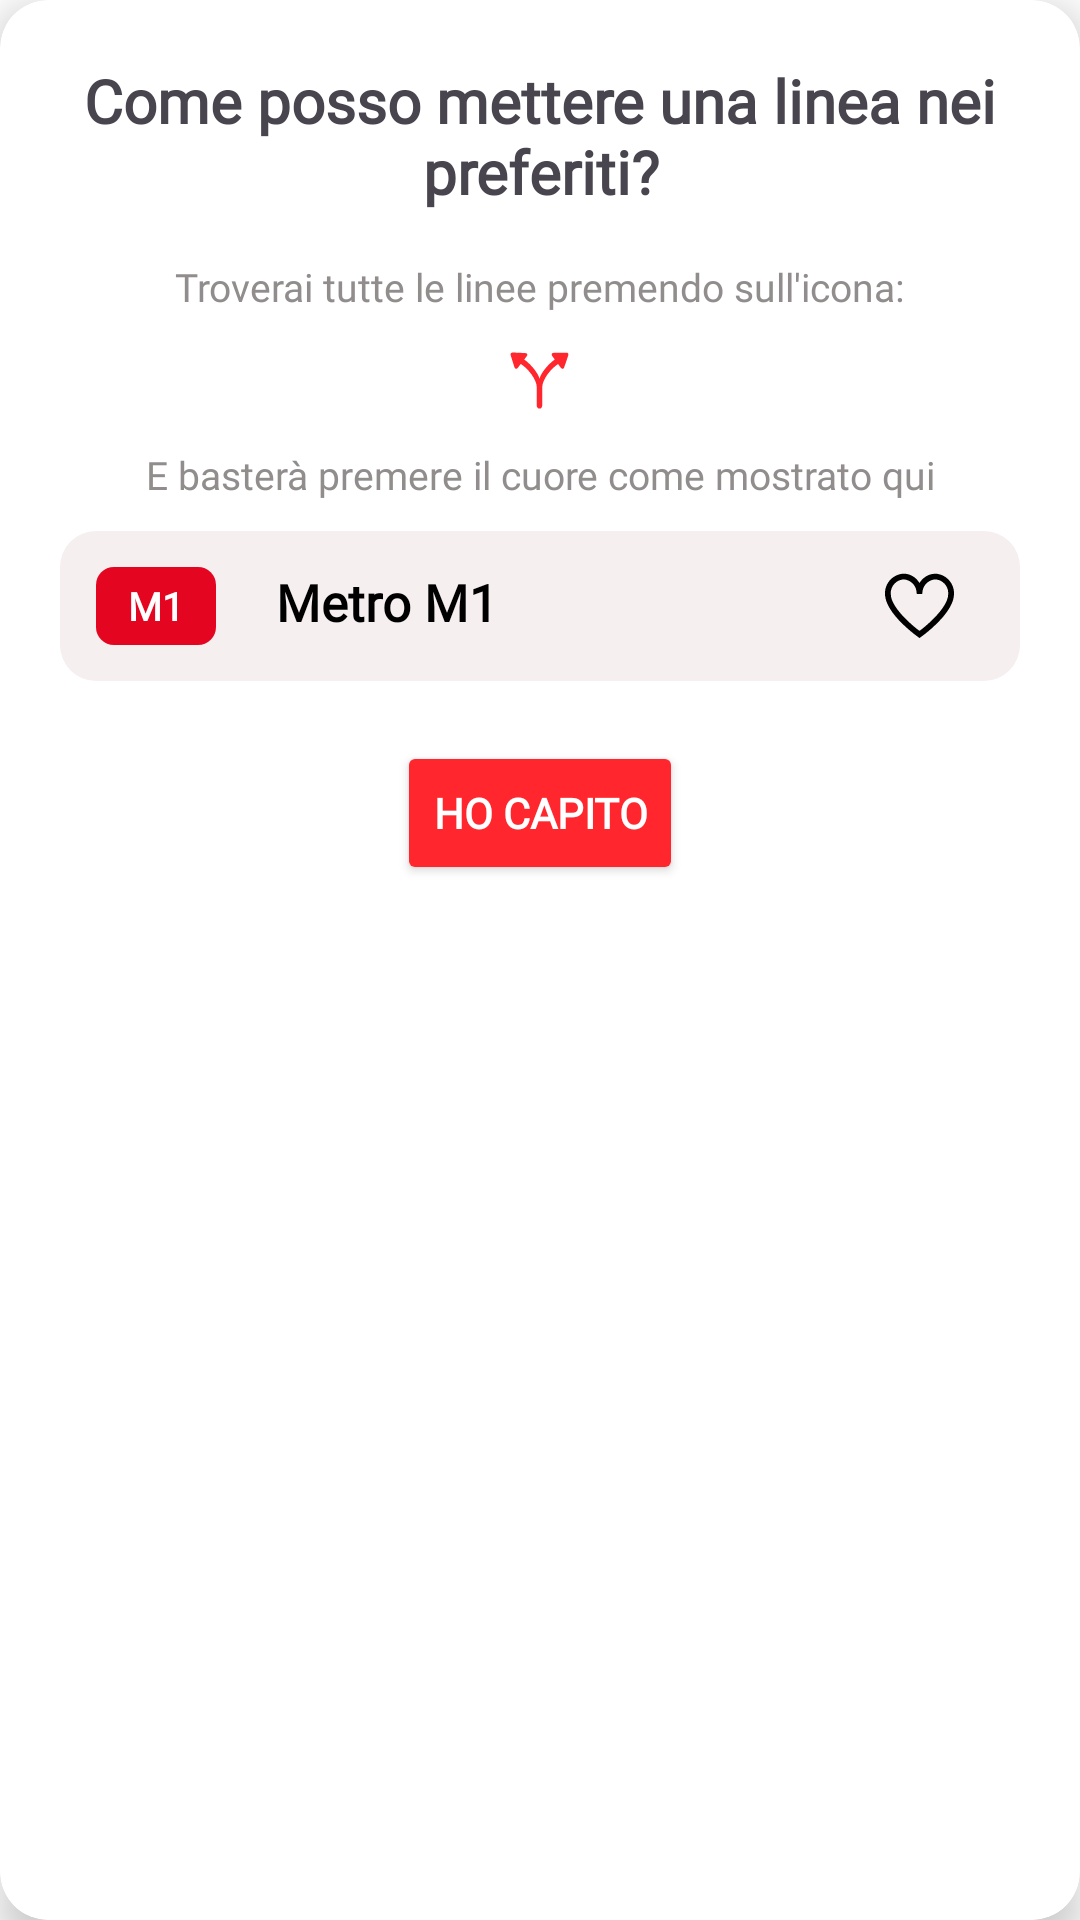

Named icons in this screenshot (1080px×1920px) and their bounding boxes, (x1, y1, x2, y2):
branch: (510, 352, 569, 409)
heart empty: (885, 573, 954, 638)
